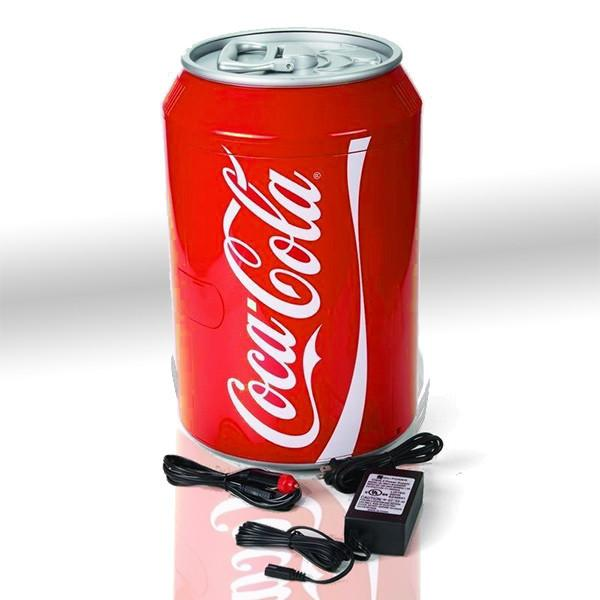coke: (163, 43, 422, 443)
